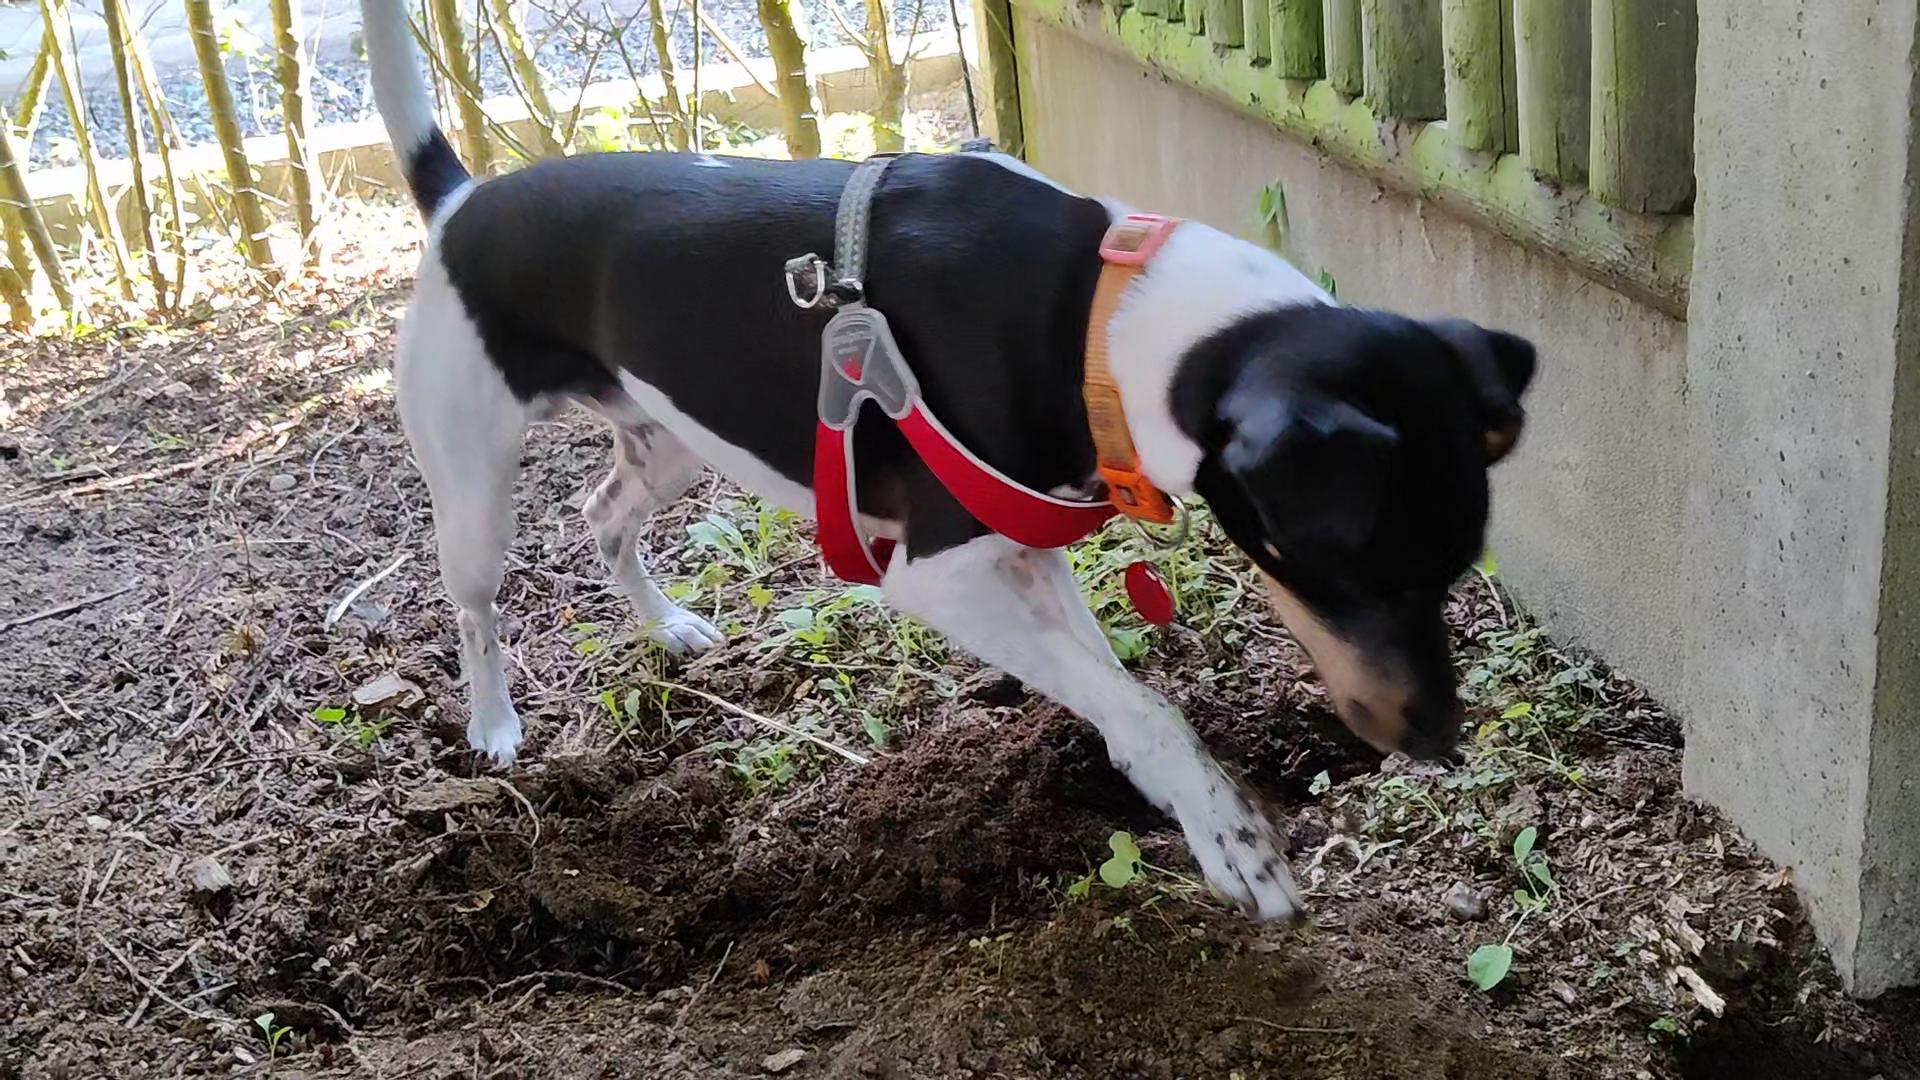Dog: (353, 0, 1536, 920)
